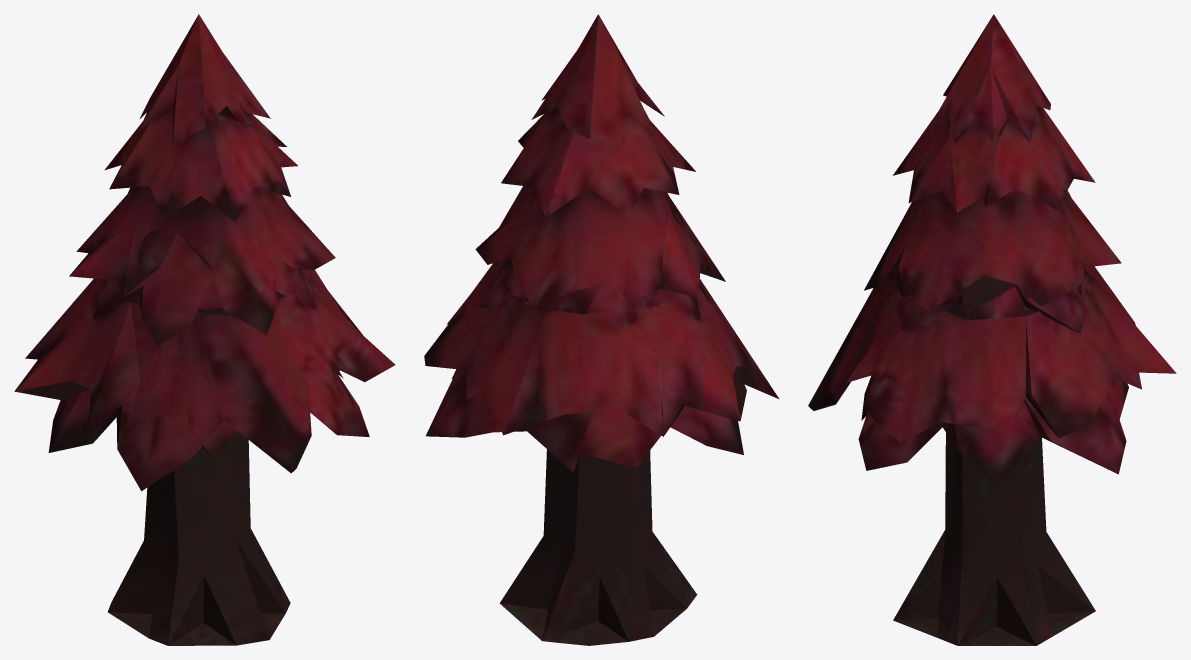
File: env_fir_large_b-UymQ0waZ.glb
3 renders of one model, left to right at view 1: azimuth 30°, elevation 25°; view 2: azimuth 150°, elevation 25°; view 3: azimuth 270°, elevation 25°, orthographic.
Visible parts, largest first — view 1: env_fir_large_b_hy_v2; view 2: env_fir_large_b_hy_v2; view 3: env_fir_large_b_hy_v2.
Boxes of the visible parts, x1,y1,x2,y2 form: env_fir_large_b_hy_v2: (14, 14, 395, 645); env_fir_large_b_hy_v2: (424, 14, 779, 645); env_fir_large_b_hy_v2: (808, 14, 1176, 645).
Bounding box in the file's own units: 1.25 × 2.27 × 1.27.
Materials: 1 (1 with a texture image).
